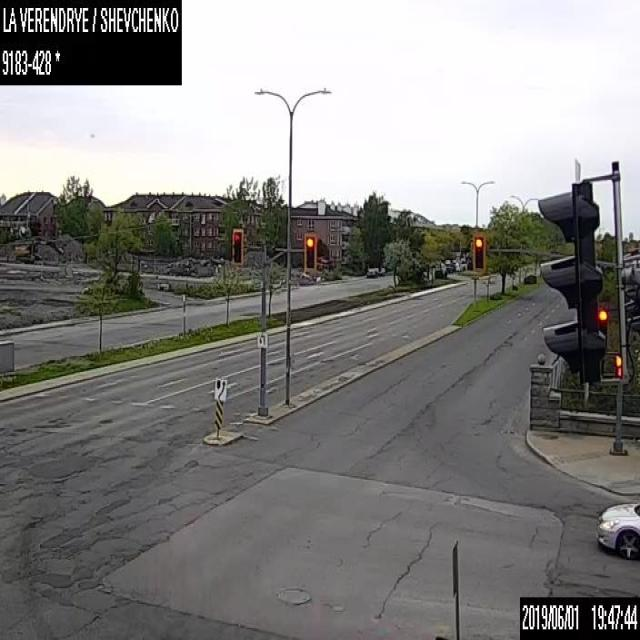vehicle: (594, 499, 639, 560), (446, 262, 456, 273), (375, 266, 385, 276), (366, 268, 377, 277)
